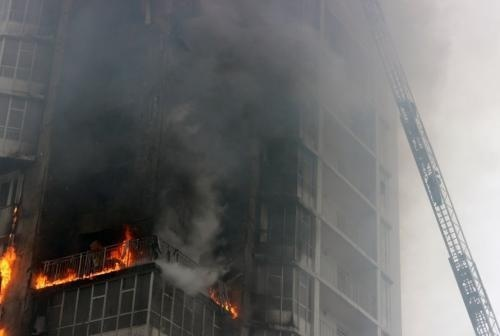fire: (28, 225, 139, 288), (208, 288, 240, 319)
